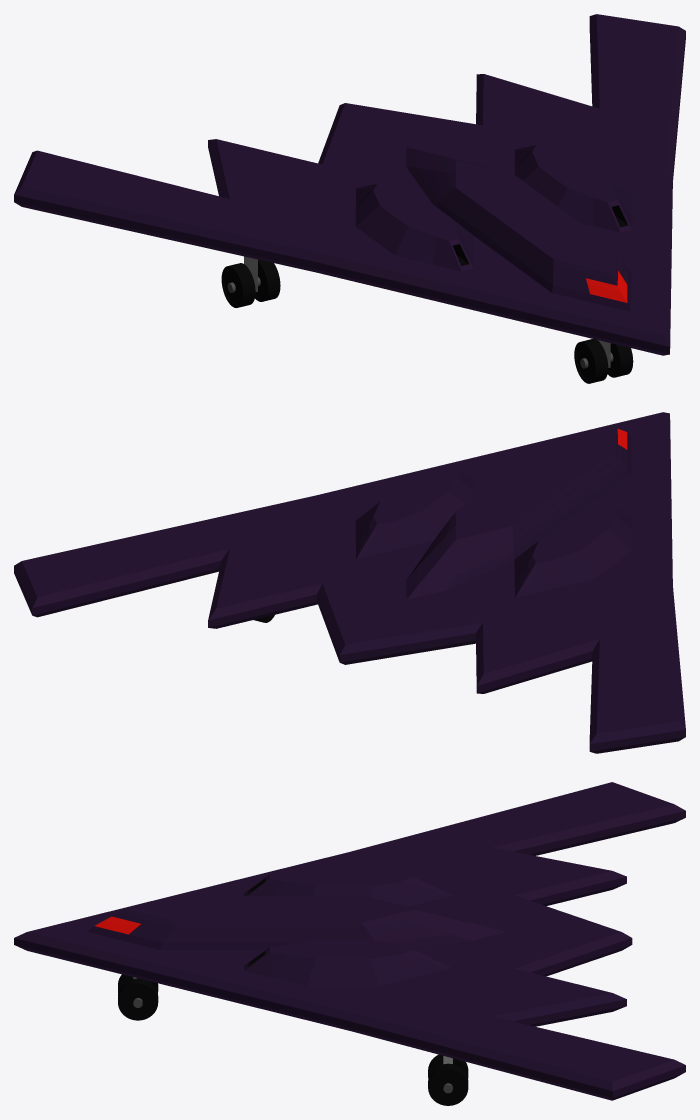
The model's file is Bomber.fbx.
The picture shows the model from 3 angles, top to bottom: view 1: azimuth 30°, elevation 25°; view 2: azimuth 150°, elevation 25°; view 3: azimuth 270°, elevation 25°; orthographic projection. The views are drawn at different scales.
Visible parts, largest first — view 1: bomber; view 2: bomber; view 3: bomber.
Boxes of the visible parts, x1=… form: bomber: x1=14, y1=14, x2=685, y2=383; bomber: x1=14, y1=412, x2=685, y2=753; bomber: x1=14, y1=782, x2=685, y2=1105.
Size of what is drawn, in the model's own units: 1381 by 216 by 1278.
